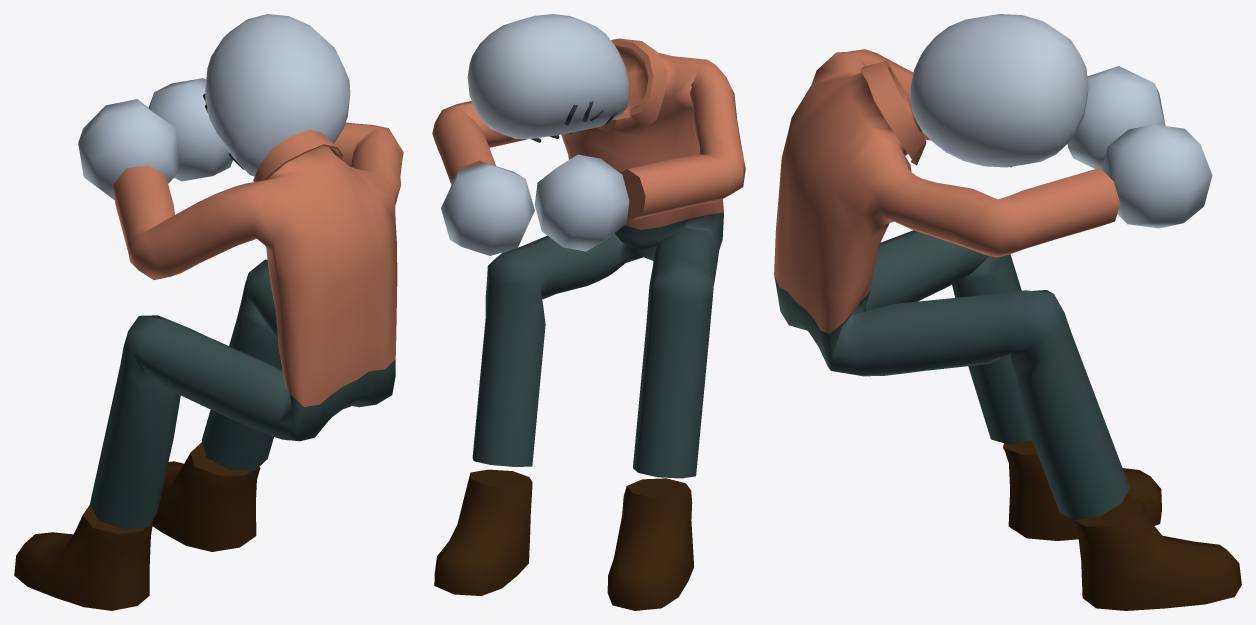
Rendered from npc1.fbx.
The picture shows the model from 3 angles, left to right: view 1: azimuth 30°, elevation 25°; view 2: azimuth 150°, elevation 25°; view 3: azimuth 270°, elevation 25°; orthographic projection. The views are drawn at different scales.
Visible parts, largest first — view 1: npc1; view 2: npc1; view 3: npc1.
Part boxes in pixels (x1=…): npc1: x1=14, y1=14, x2=403, y2=610; npc1: x1=432, y1=14, x2=745, y2=610; npc1: x1=774, y1=14, x2=1241, y2=610.
Size of the model in its own units: 68.39 by 113 by 82.79.
